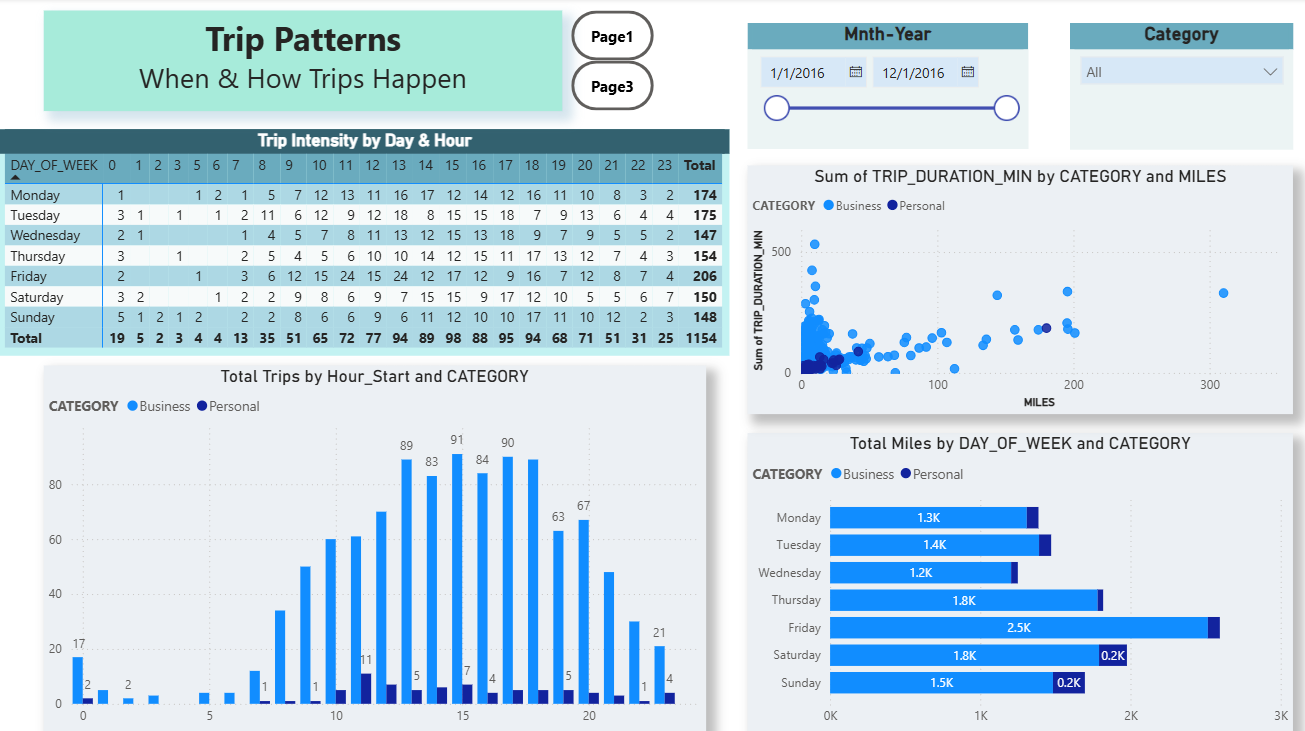

What the dashboard file says about the page in this screenshot:
{"tool":"powerbi","page":{"name":"Trip Patterns","canvas":[1280,720],"ordinal":1},"visuals":[{"type":"pivotTable","title":"Trip Intensity by Day & Hour","fields":{"Rows":["Table1.DAY_OF_WEEK"],"Values":["Table1.Total Trips"],"Columns":["Table1.Hour_Start"]},"box":[0,128,713.7,221.2],"z":0},{"type":"barChart","fields":{"Category":["Table1.DAY_OF_WEEK"],"Series":["Table1.CATEGORY"],"Y":["Table1.Total Miles"]},"box":[731.4,425.4,533.8,295],"z":1000},{"type":"scatterChart","fields":{"Y":["Sum(Table1.TRIP_DURATION_MIN)"],"X":["Table1.MILES"],"Series":["Table1.CATEGORY"]},"box":[731.4,163.3,533.8,242.9],"z":2000},{"type":"clusteredColumnChart","fields":{"Category":["Table1.Hour_Start"],"Y":["Table1.Total Trips"],"Series":["Table1.CATEGORY"]},"box":[42.5,359.5,647.7,360.9],"z":3000},{"type":"slicer","title":"Mnth-Year","fields":{"Values":["Table1.Mnth-Year"]},"box":[731.4,24.7,274.4,123.5],"z":4000},{"type":"slicer","title":"Category","fields":{"Values":["Table1.CATEGORY"]},"box":[1046.3,25,218.4,123.8],"z":5000},{"type":"textbox","box":[42.6,11.9,507.2,98.7],"z":6000},{"type":"actionButton","box":[558.8,61.1,80.7,48.9],"z":7000},{"type":"actionButton","box":[558.8,12.2,80.7,48.9],"z":8000}]}

Visuals, with their boxes in screenshot pixels (x1, y1, x2, y2), scaled from the page's 1280x720 canvas onto the 1305x731 screenshot:
"Trip Intensity by Day & Hour" pivotTable: crop(0, 130, 728, 355)
barChart - Table1.DAY_OF_WEEK x Table1.CATEGORY: crop(746, 432, 1290, 730)
scatterChart - Sum(Table1.TRIP_DURATION_MIN) x Table1.MILES: crop(746, 166, 1290, 412)
clusteredColumnChart - Table1.Hour_Start x Table1.Total Trips: crop(43, 365, 704, 730)
"Mnth-Year" slicer: crop(746, 25, 1025, 150)
"Category" slicer: crop(1067, 25, 1289, 151)
textbox: crop(43, 12, 561, 112)
actionButton: crop(570, 62, 652, 112)
actionButton: crop(570, 12, 652, 62)
